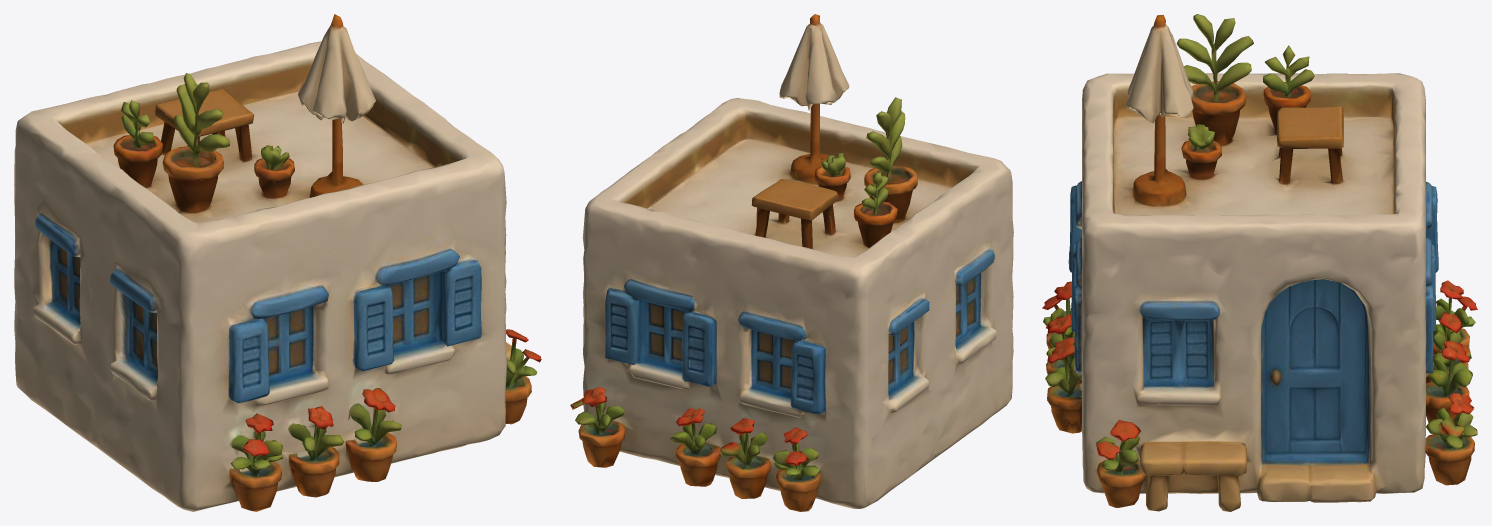
The model's file is house_c.glb.
The picture shows the model from 3 angles, left to right: view 1: azimuth 30°, elevation 25°; view 2: azimuth 150°, elevation 25°; view 3: azimuth 270°, elevation 25°; orthographic projection. The views are drawn at different scales.
Parts seen in each view (by area): view 1: tripo_node_3e4d55cb-3e83-40dc-811e-a51ba2edc6c4; view 2: tripo_node_3e4d55cb-3e83-40dc-811e-a51ba2edc6c4; view 3: tripo_node_3e4d55cb-3e83-40dc-811e-a51ba2edc6c4.
Boxes of the visible parts, x1,y1,x2,y2 form: tripo_node_3e4d55cb-3e83-40dc-811e-a51ba2edc6c4: (14,14,541,511); tripo_node_3e4d55cb-3e83-40dc-811e-a51ba2edc6c4: (570,14,1013,511); tripo_node_3e4d55cb-3e83-40dc-811e-a51ba2edc6c4: (1042,14,1477,511).
Size of the model in its own units: 0.92 by 1 by 0.9438.
Materials: 1 (1 with a texture image).
